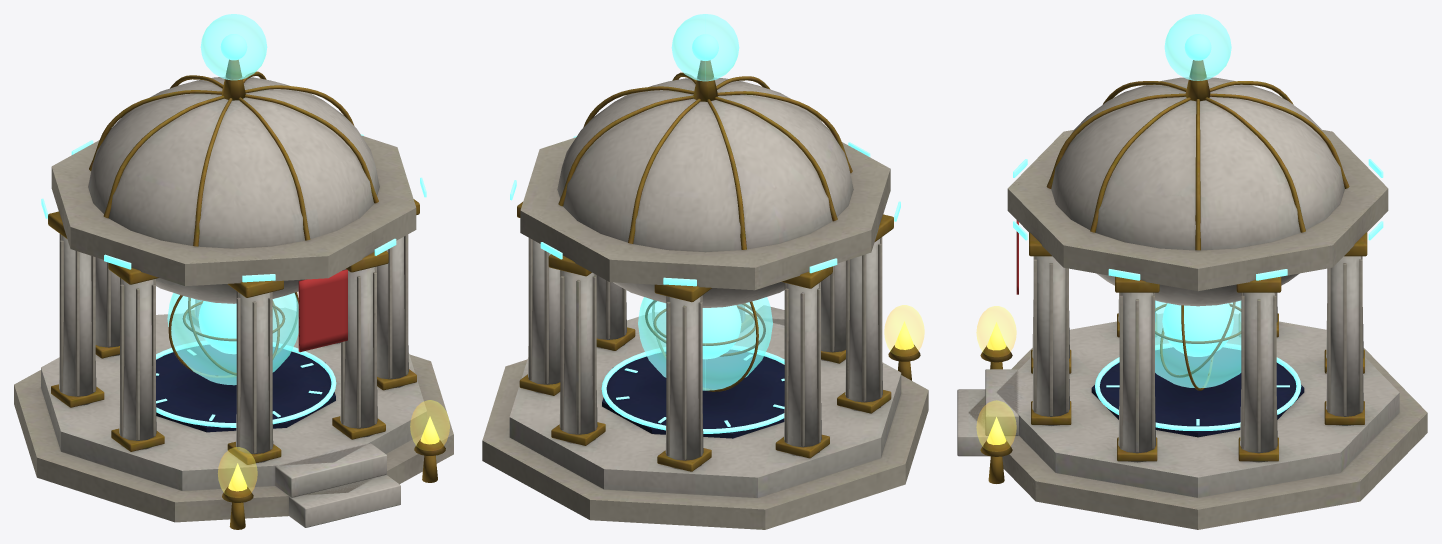
Rendered from temple.glb.
3 views of the same model, side by side, from view 1: azimuth 30°, elevation 25°; view 2: azimuth 150°, elevation 25°; view 3: azimuth 270°, elevation 25° (orthographic).
Parts seen in each view (by area): view 1: body, ether_veil, ether, team, sun_veil, sun.001; view 2: body, ether_veil, ether, sun_veil; view 3: body, ether_veil, ether, sun_veil, sun.001.
Part boxes in pixels (<box>): body: <box>14,59,453,529</box>; ether_veil: <box>167,14,298,385</box>; ether: <box>41,34,426,427</box>; team: <box>298,269,347,352</box>; sun_veil: <box>218,400,449,497</box>; sun.001: <box>228,416,439,491</box>; body: <box>482,60,928,529</box>; ether_veil: <box>638,14,772,390</box>; ether: <box>510,34,900,433</box>; sun_veil: <box>884,305,924,355</box>; body: <box>957,60,1427,529</box>; ether_veil: <box>1155,14,1241,388</box>; ether: <box>1013,34,1383,430</box>; sun_veil: <box>976,306,1016,451</box>; sun.001: <box>986,322,1006,444</box>.
Size of the model in its own units: 2.95 by 2.96 by 3.02.
Materials: 6 (1 with a texture image).
